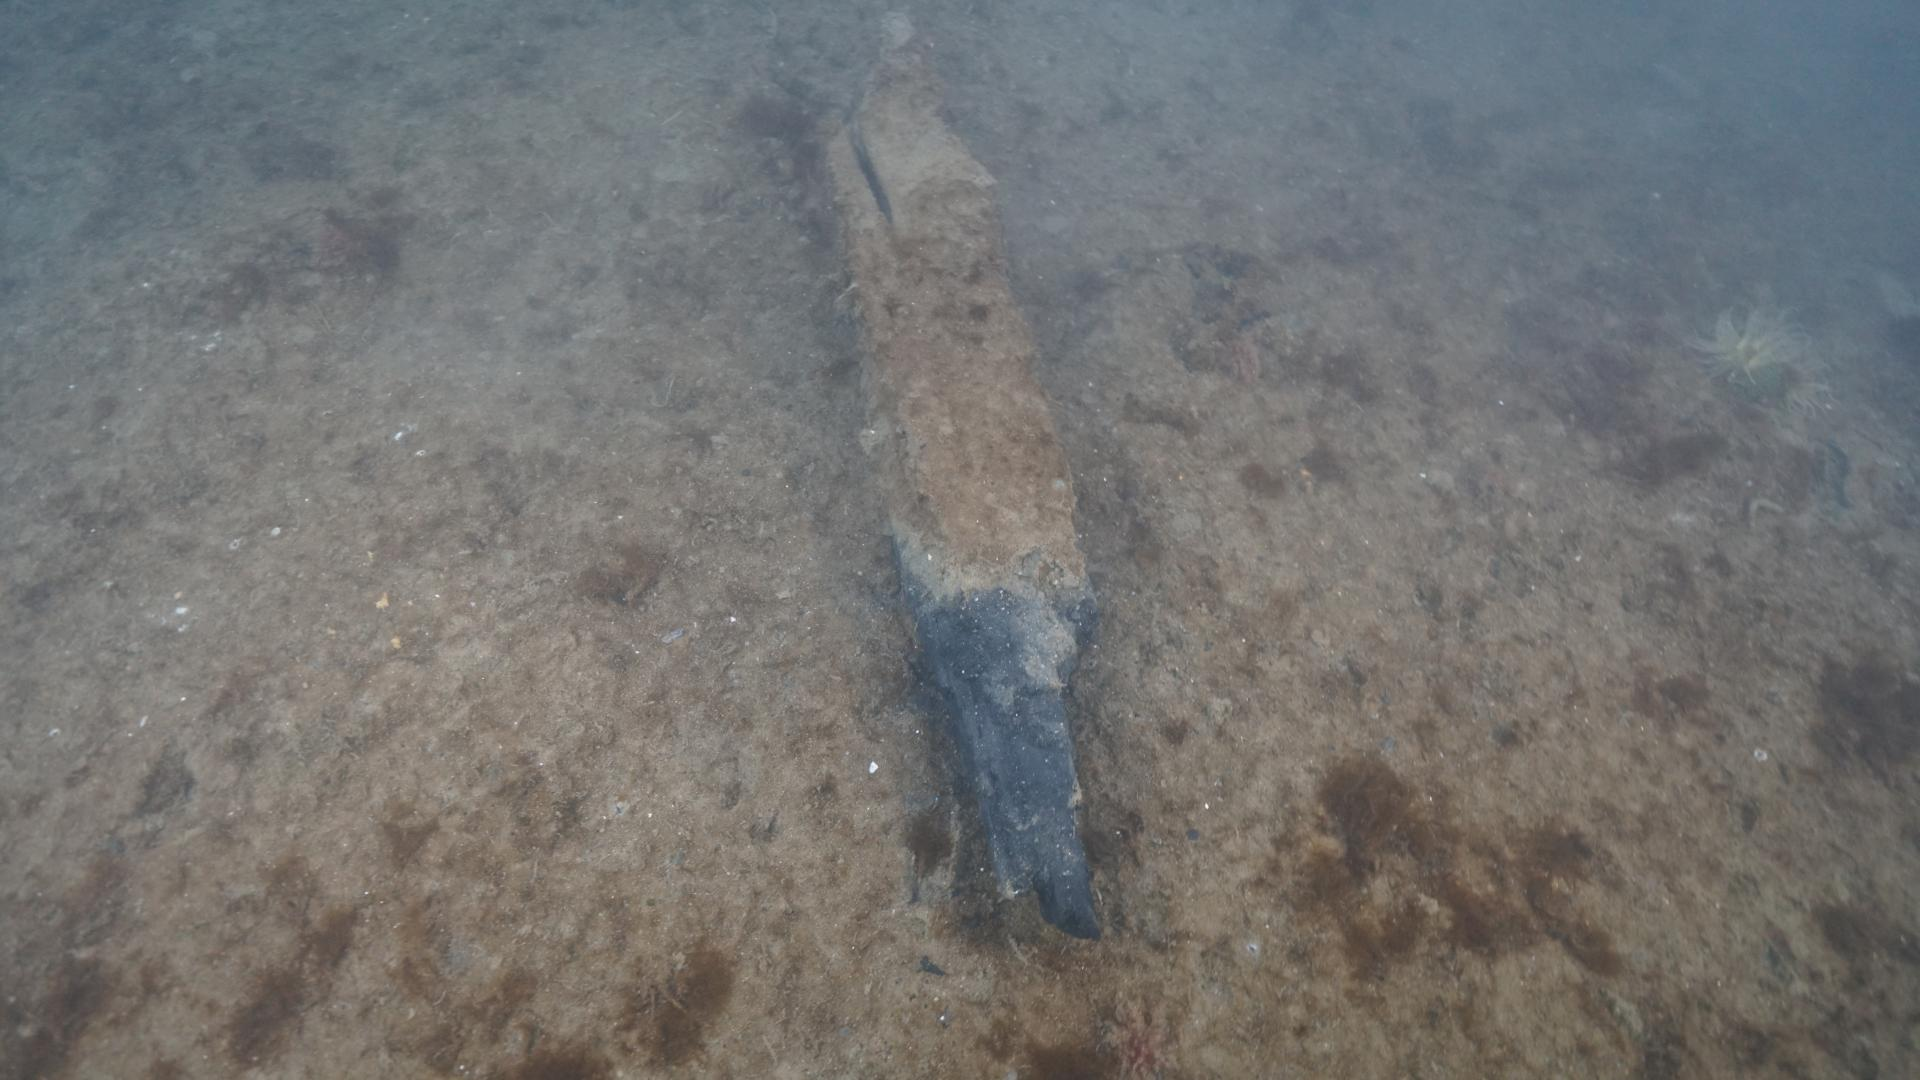wood: (783, 0, 1106, 944)
